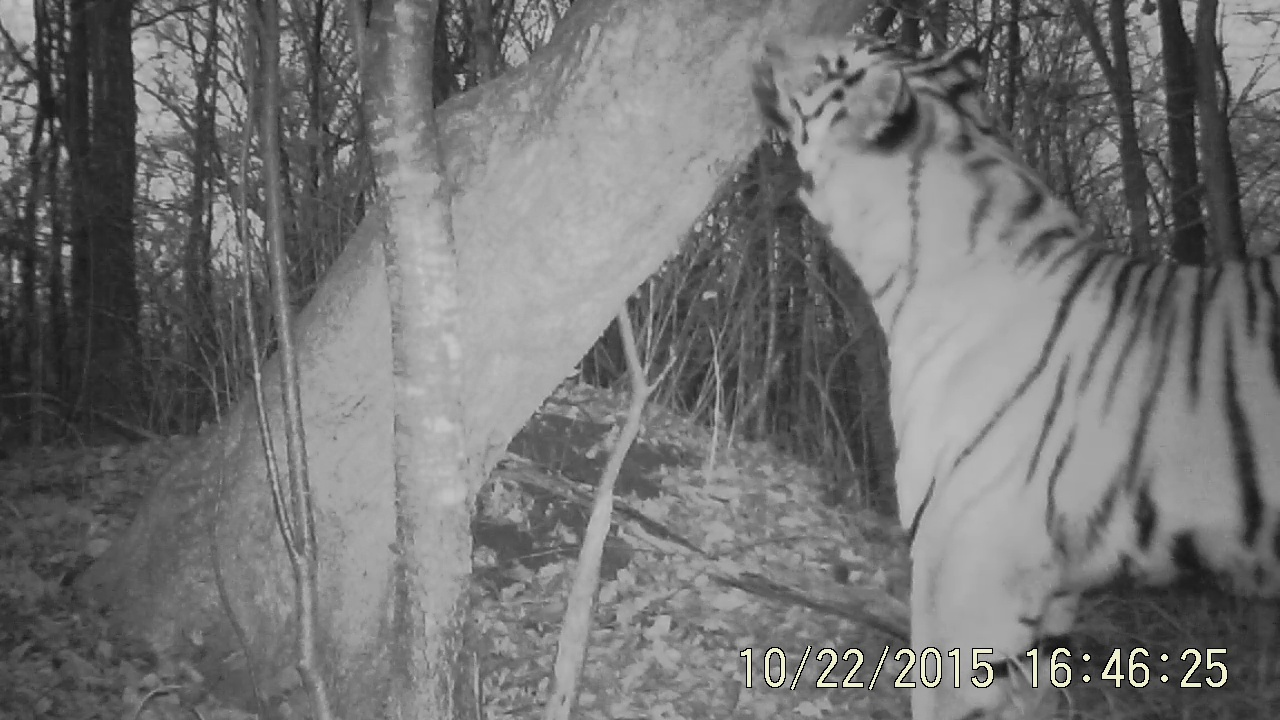Tiger: (734, 27, 1278, 651)
